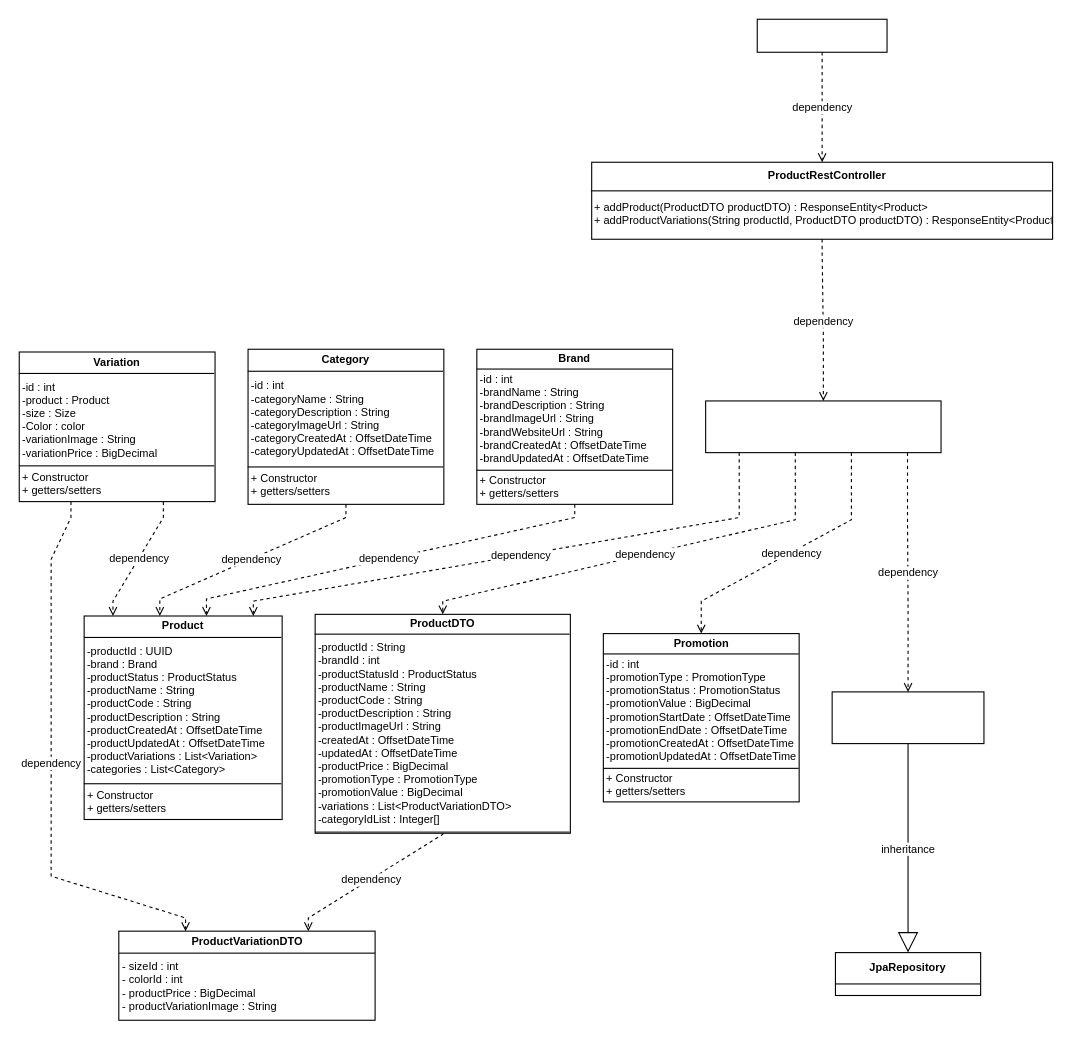
Some shapes in this 1078 by 1040 pixel diagram are drawn without their labels. Each missing label, with the box of its shape:
Product Dashboard: (756, 18, 887, 52)
ProductRepository: (831, 691, 984, 744)
ProductService + addProduct(ProductDTO productDTO) : Product: (705, 400, 941, 453)
